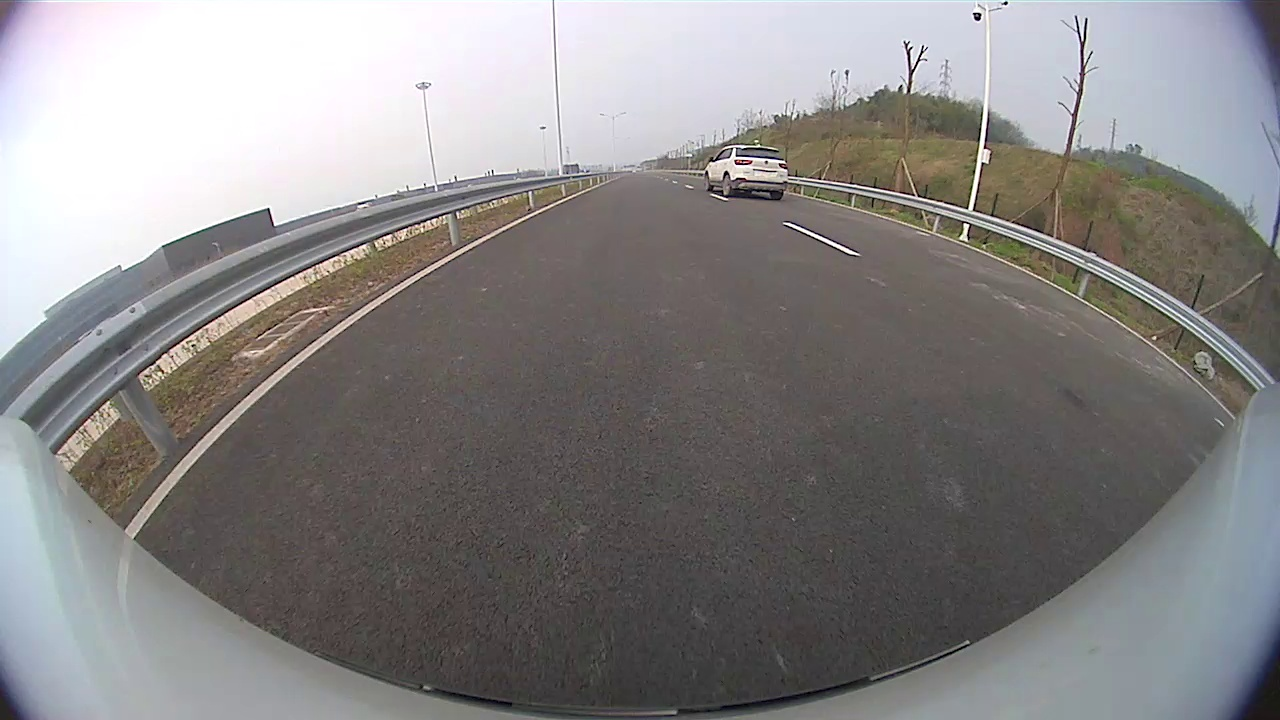car: (702, 144, 789, 201)
front: (702, 172, 714, 193)
rear: (722, 173, 737, 199)
